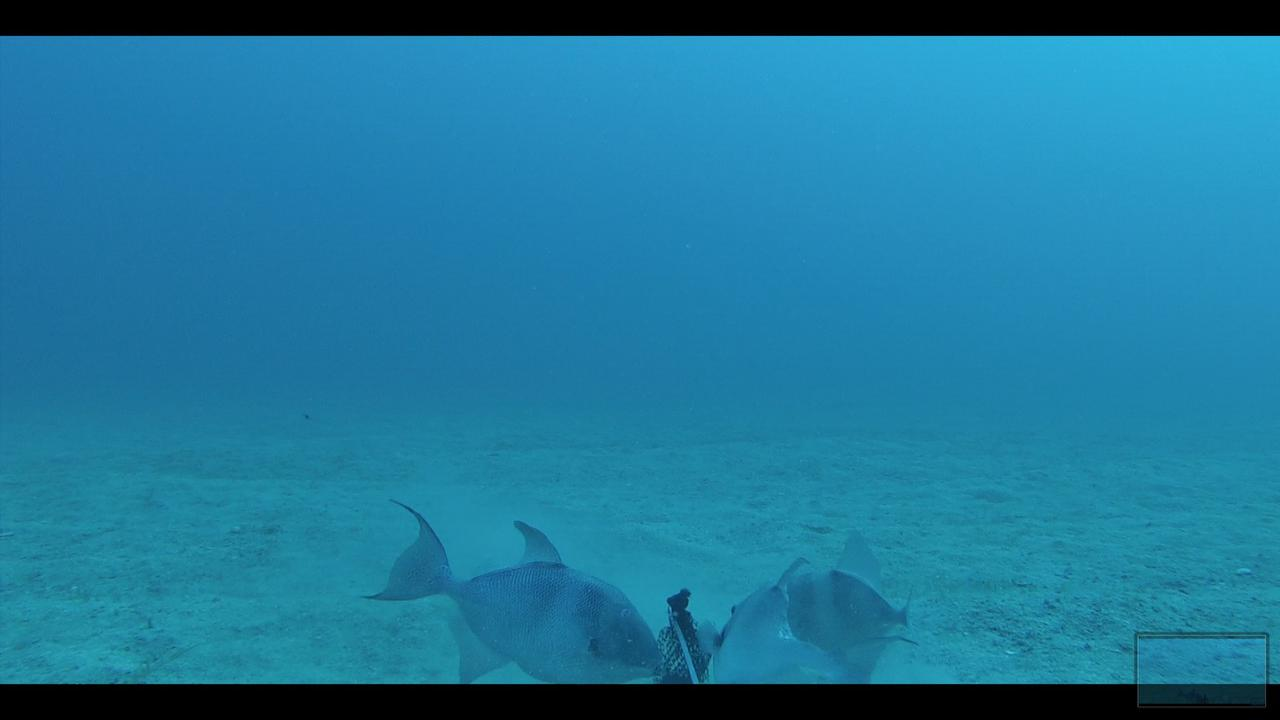balistes: (354, 493, 659, 681), (693, 552, 846, 681)
